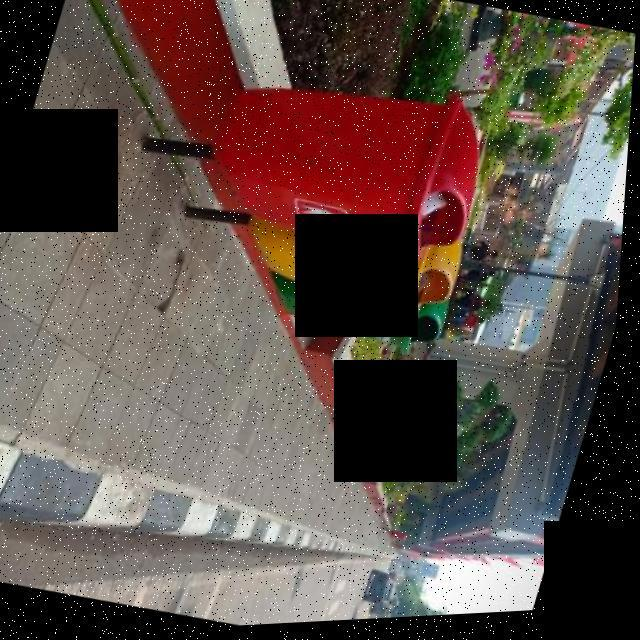bin: (178, 30, 512, 291), (237, 214, 473, 333), (256, 265, 463, 373)
